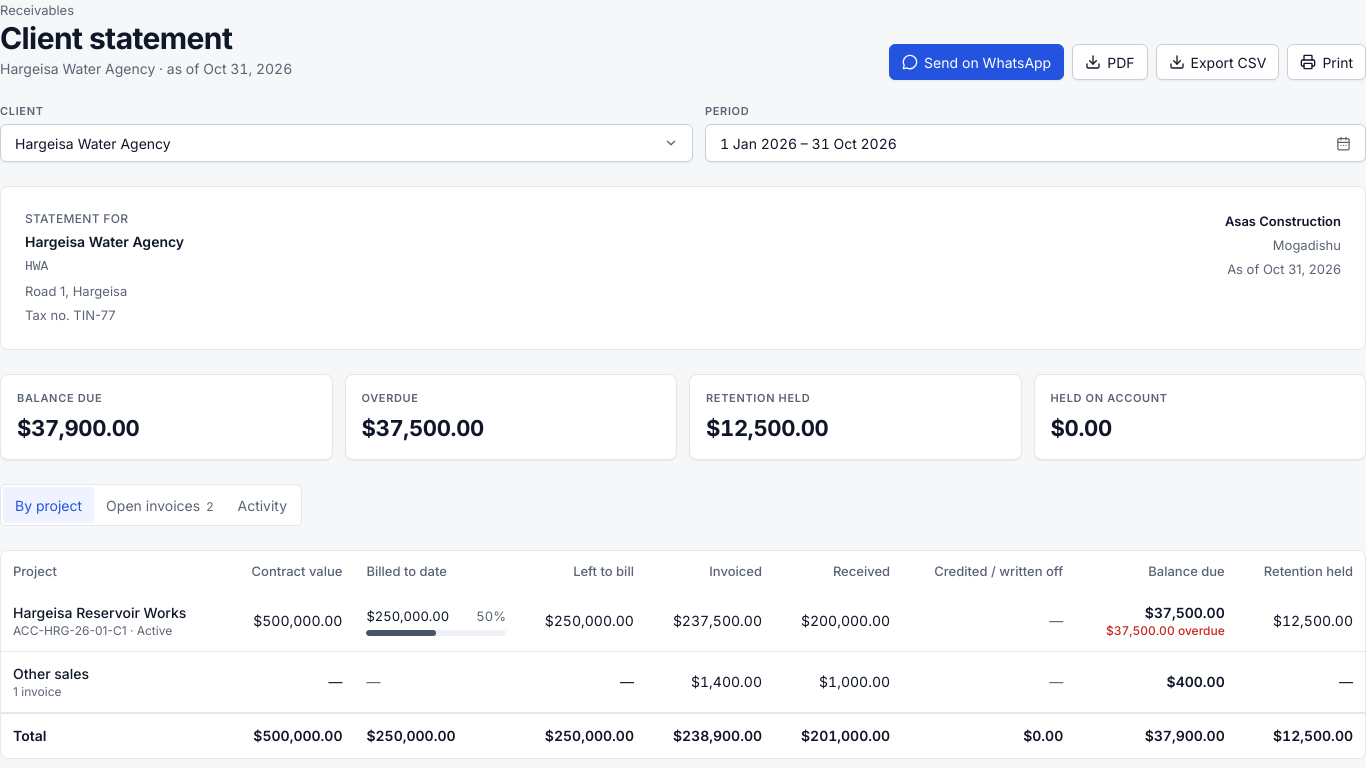
Scenario: ClientStatement › lists the invoices still owed, most overdue first, and what is due after cash on account
The width and height of the screenshot is (1366, 768).
Click the tab "Open invoices2": (160, 505) [94, 487, 226, 523]
(page scrolled)
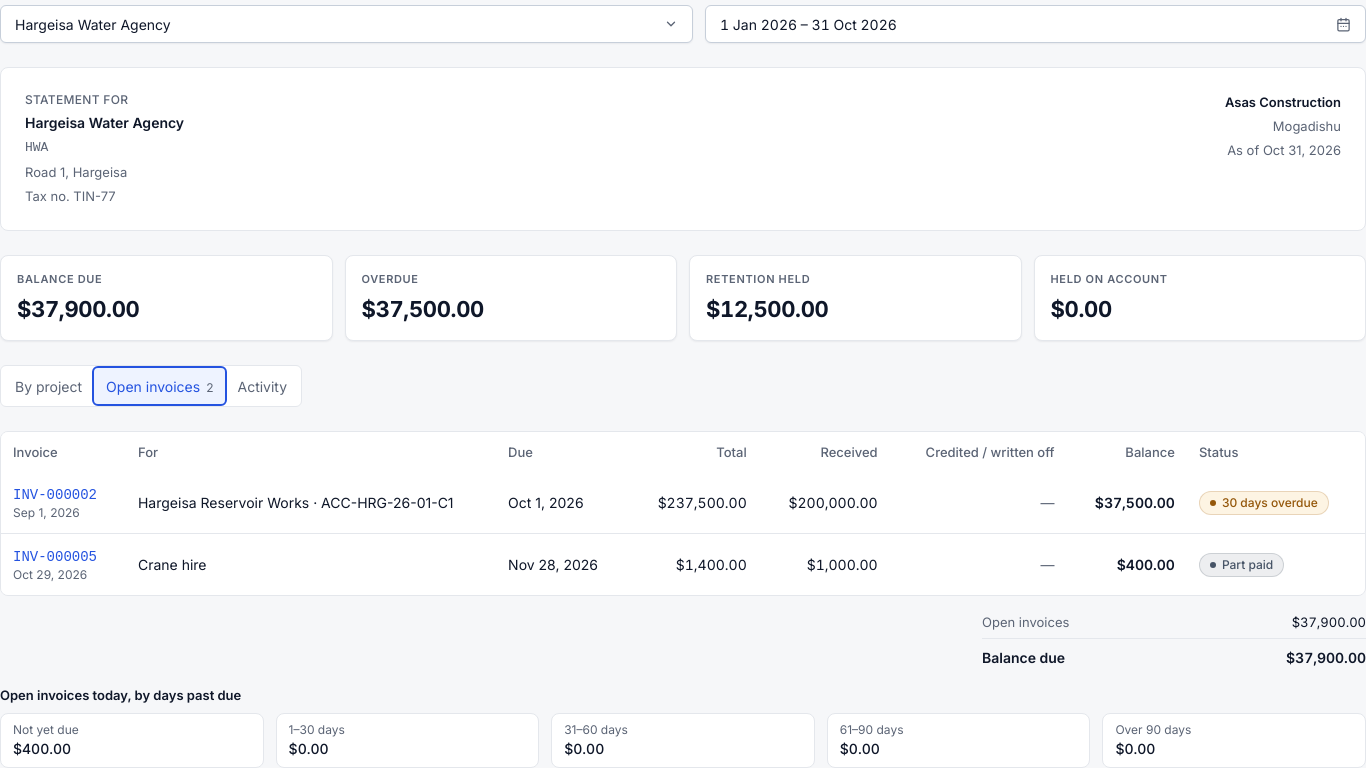
Expected: the text "30 days overdue" is shown, [1199, 490, 1329, 514]
Expected: the text "Crane hire" is shown, [138, 556, 206, 572]
Expected: the text "Part paid" is shown, [1199, 552, 1284, 576]
